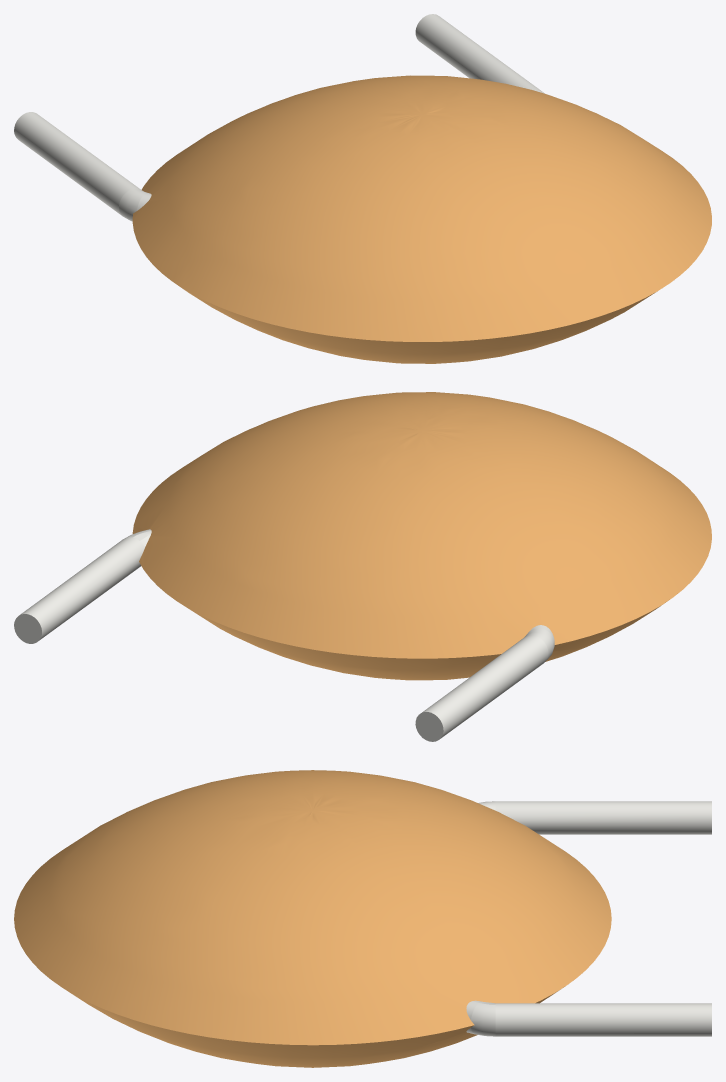
The model's file is C_Disc_D12.5mm_W5.0mm_P10.00mm.glb.
The picture shows the model from 3 angles, top to bottom: view 1: azimuth 30°, elevation 25°; view 2: azimuth 150°, elevation 25°; view 3: azimuth 270°, elevation 25°; orthographic projection. The views are drawn at different scales.
Visible parts, largest first — view 1: Shape_IndexedFaceSet.004, Shape_IndexedFaceSet.003, Shape_IndexedFaceSet.008, Shape_IndexedFaceSet.001; view 2: Shape_IndexedFaceSet.004, Shape_IndexedFaceSet.003, Shape_IndexedFaceSet.008, Shape_IndexedFaceSet.001, Shape_IndexedFaceSet.015, Shape_IndexedFaceSet; view 3: Shape_IndexedFaceSet.004, Shape_IndexedFaceSet.001, Shape_IndexedFaceSet.008, Shape_IndexedFaceSet.003, Shape_IndexedFaceSet.002.
Boxes of the visible parts, box(x1,y1,x2,y2) form: Shape_IndexedFaceSet.004: box(132, 75, 711, 341); Shape_IndexedFaceSet.003: box(182, 288, 657, 363); Shape_IndexedFaceSet.008: box(14, 112, 140, 216); Shape_IndexedFaceSet.001: box(415, 14, 543, 92); Shape_IndexedFaceSet.004: box(132, 392, 711, 658); Shape_IndexedFaceSet.003: box(188, 602, 665, 680); Shape_IndexedFaceSet.008: box(422, 635, 548, 738); Shape_IndexedFaceSet.001: box(19, 537, 144, 640); Shape_IndexedFaceSet.015: box(415, 712, 443, 741); Shape_IndexedFaceSet: box(14, 614, 41, 643); Shape_IndexedFaceSet.004: box(14, 770, 611, 1045); Shape_IndexedFaceSet.001: box(495, 1003, 711, 1036); Shape_IndexedFaceSet.008: box(495, 801, 711, 834); Shape_IndexedFaceSet.003: box(66, 987, 563, 1067); Shape_IndexedFaceSet.002: box(471, 1003, 495, 1036).
Size of the model in its own units: 4.92 by 1.97 by 5.75.
